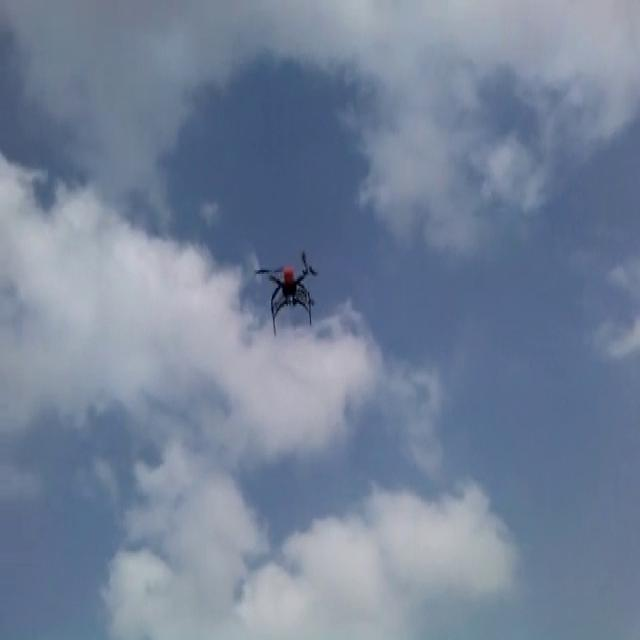drone: (251, 245, 318, 332)
